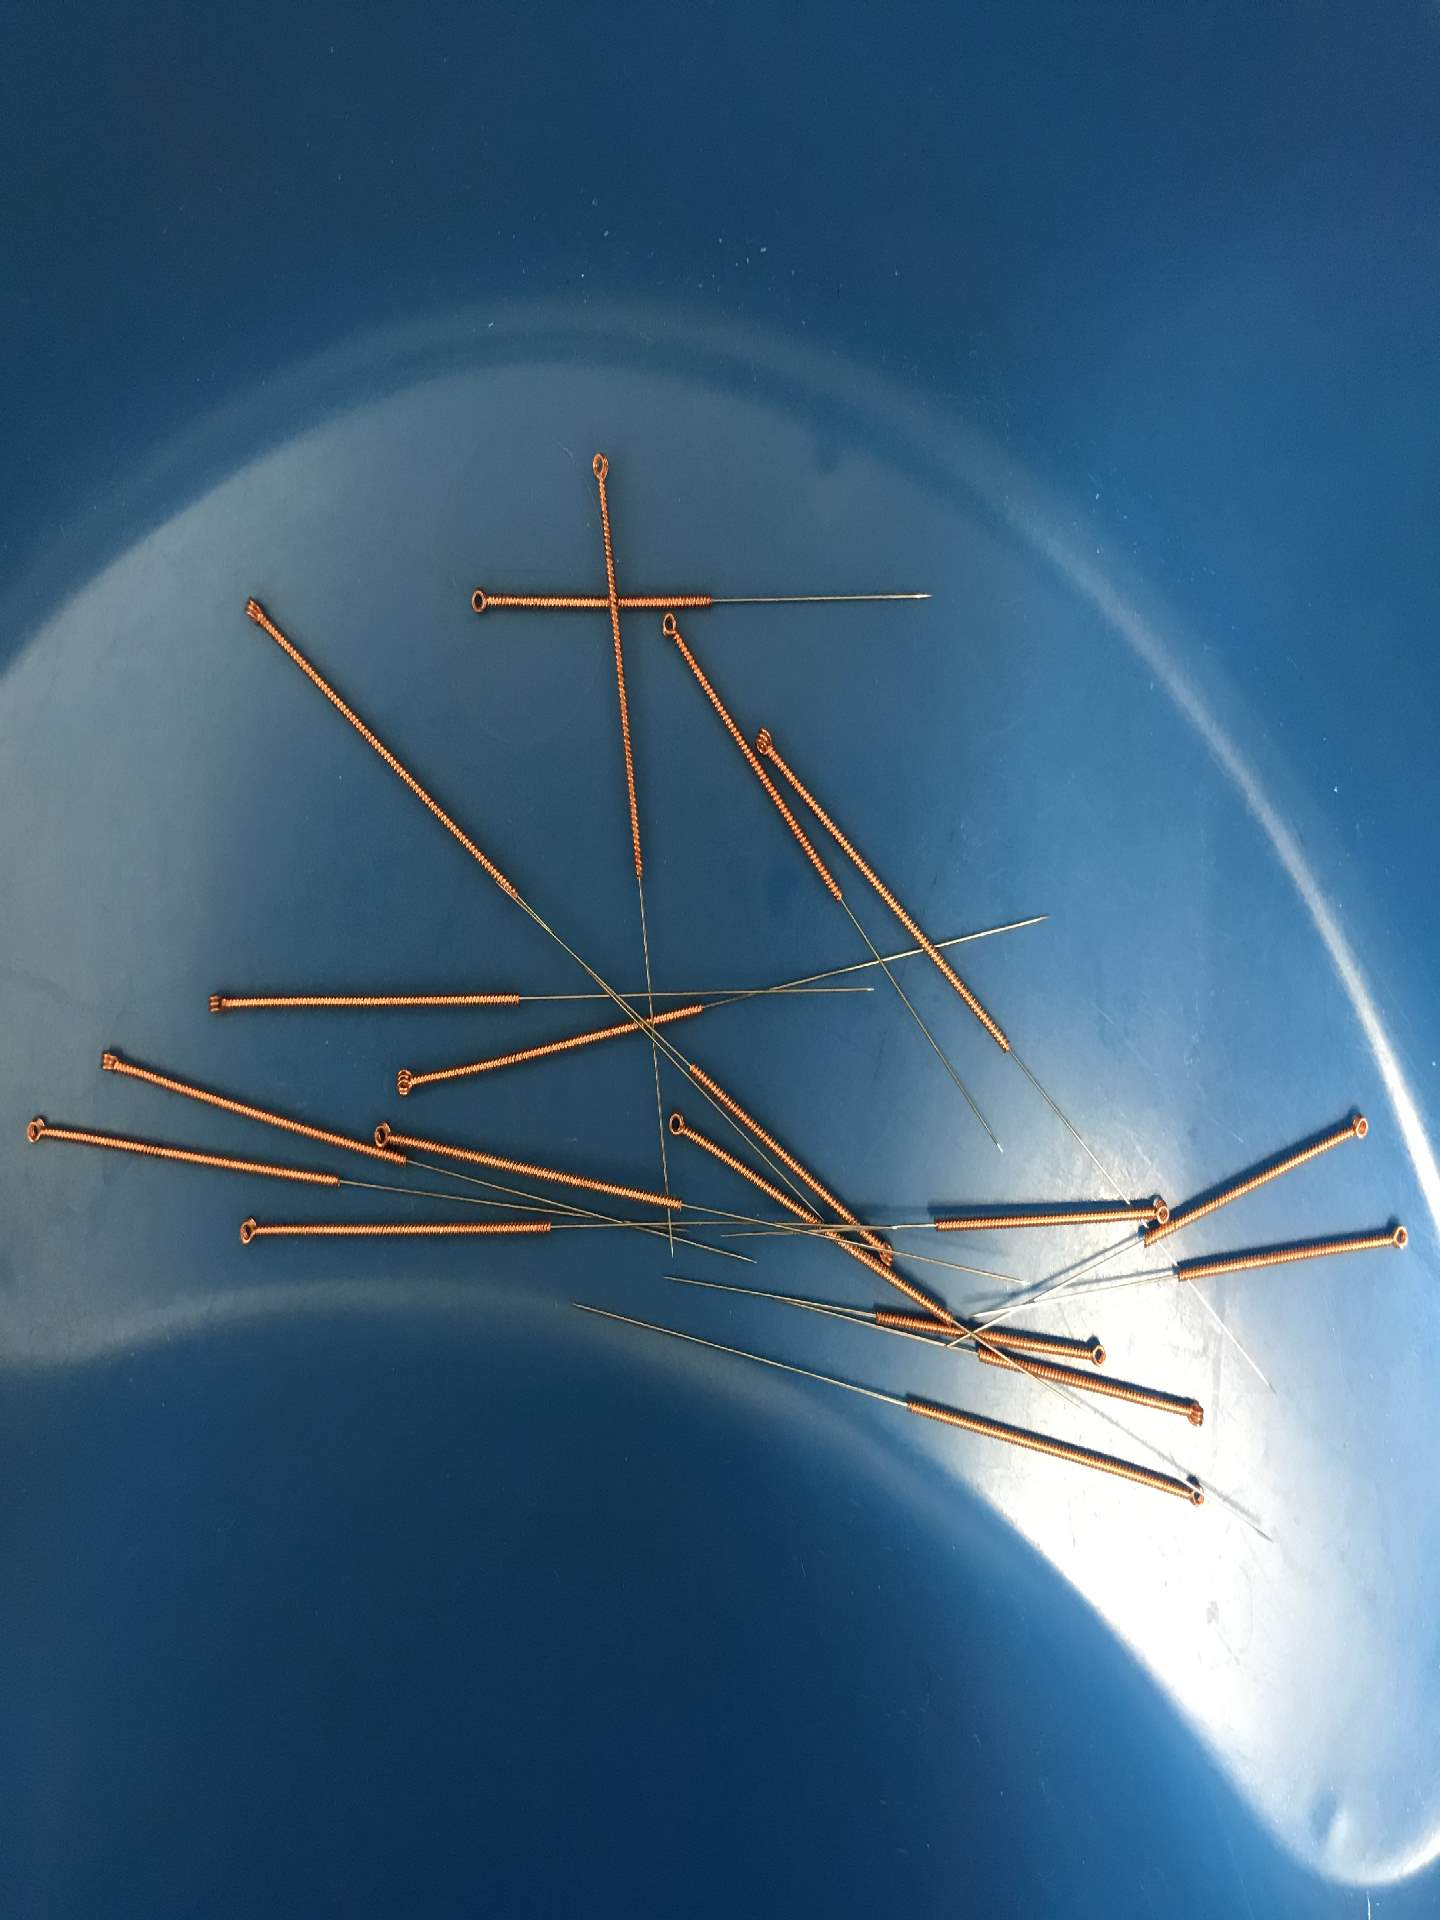needle: (233, 590, 275, 633), (386, 1058, 427, 1104), (228, 1208, 268, 1253), (88, 1042, 130, 1082), (461, 581, 505, 620), (582, 444, 619, 491), (197, 983, 234, 1027), (20, 1111, 56, 1154), (1378, 1215, 1414, 1255), (653, 608, 687, 649), (661, 1105, 696, 1143), (1342, 1107, 1375, 1146), (1137, 1193, 1172, 1229), (1175, 1394, 1209, 1432), (750, 720, 781, 760), (369, 1116, 402, 1152), (1078, 1335, 1110, 1370), (1177, 1477, 1209, 1512), (873, 1234, 902, 1270)
